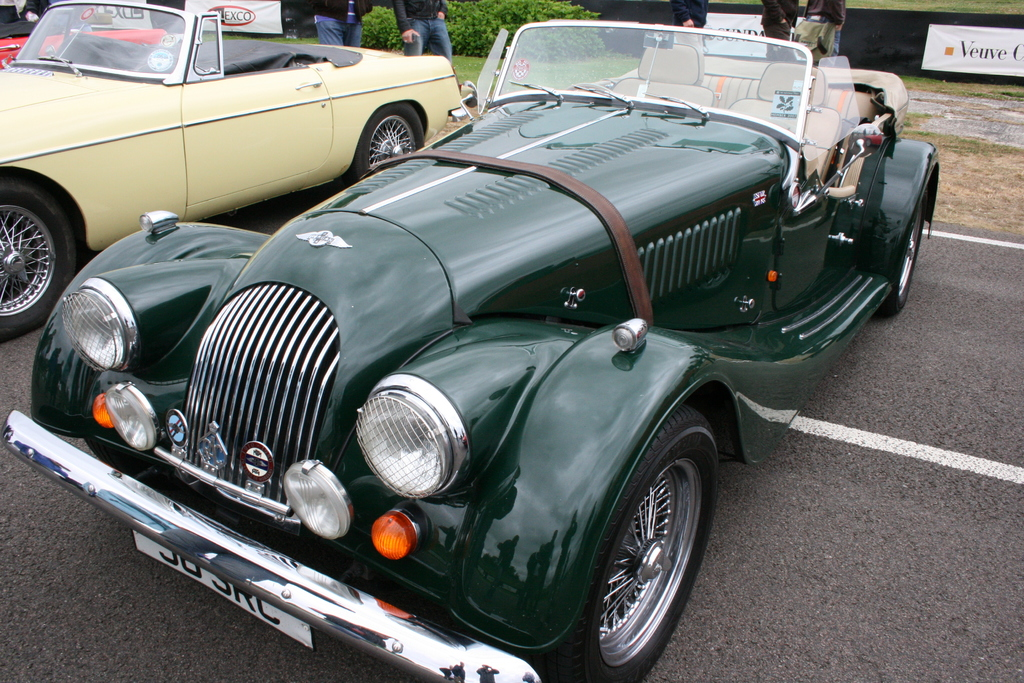Person: (392, 0, 451, 63), (311, 0, 373, 46), (803, 0, 846, 66), (757, 0, 796, 59), (669, 0, 709, 47)
